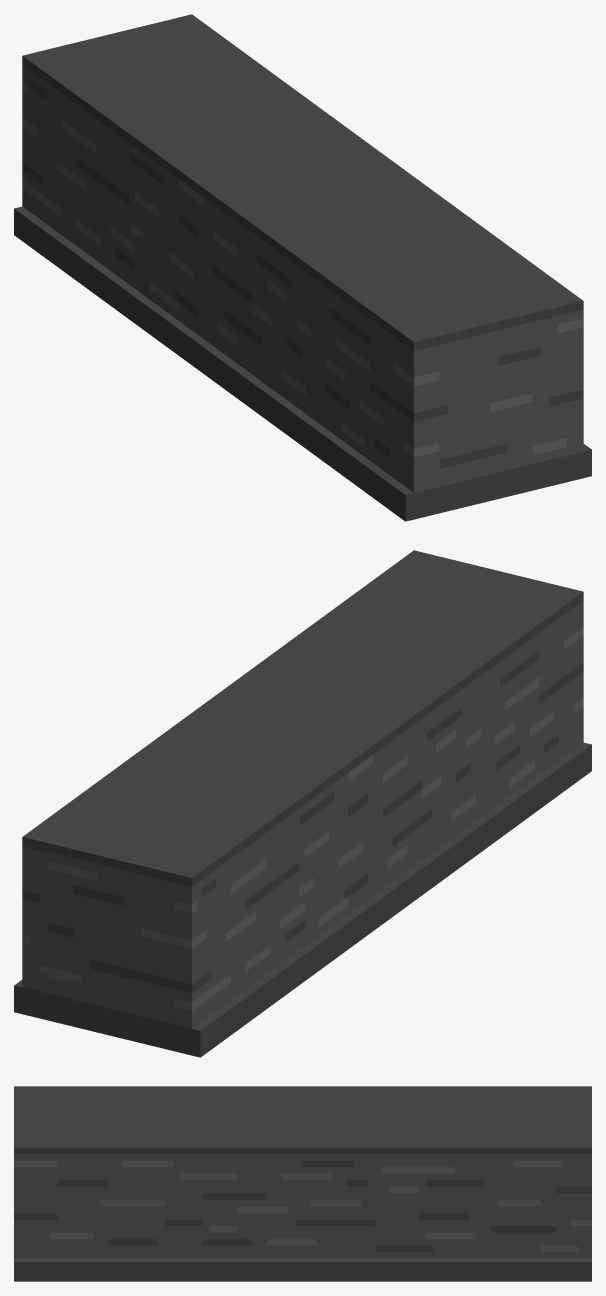
File: WallPiece - chonky.obj
The picture shows the model from 3 angles, top to bottom: view 1: azimuth 30°, elevation 25°; view 2: azimuth 150°, elevation 25°; view 3: azimuth 270°, elevation 25°; orthographic projection. The views are drawn at different scales.
Size of the model in its own units: 2.2 by 2 by 8.
1 material, 1 textured.
